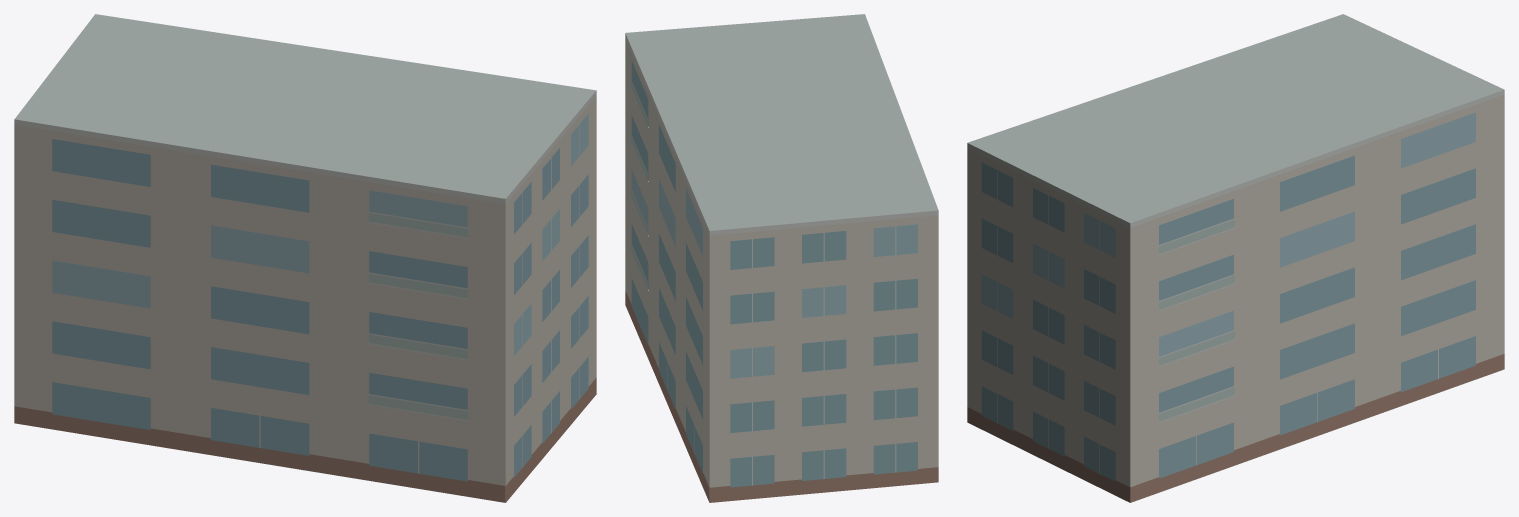
Rendered from survey-upis-33011206.glb.
3 views of the same model, side by side, from view 1: azimuth 30°, elevation 25°; view 2: azimuth 150°, elevation 25°; view 3: azimuth 270°, elevation 25° (orthographic). The views are drawn at different scales.
Visible parts, largest first — view 1: survey-upis-33011206.tmp; view 2: survey-upis-33011206.tmp; view 3: survey-upis-33011206.tmp.
Part boxes in pixels (bbox=[...]): survey-upis-33011206.tmp: bbox=[14, 14, 596, 502]; survey-upis-33011206.tmp: bbox=[625, 14, 938, 502]; survey-upis-33011206.tmp: bbox=[967, 14, 1504, 502].
Bounding box in the file's own units: 22.96 × 14.3 × 24.91.
